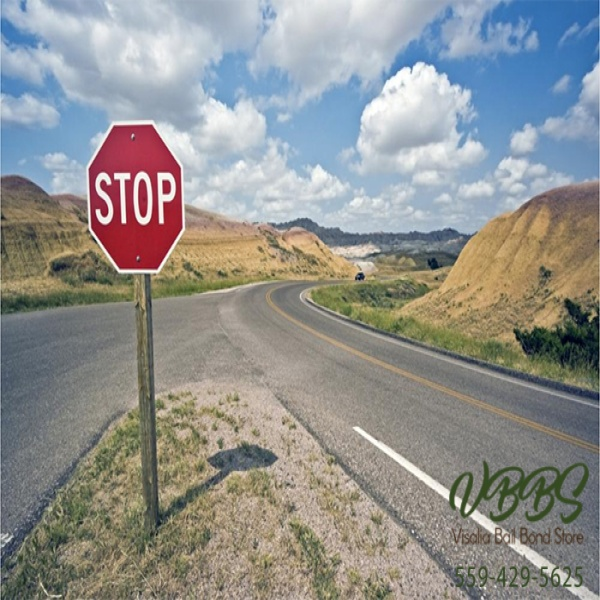stop: (86, 124, 188, 275)
